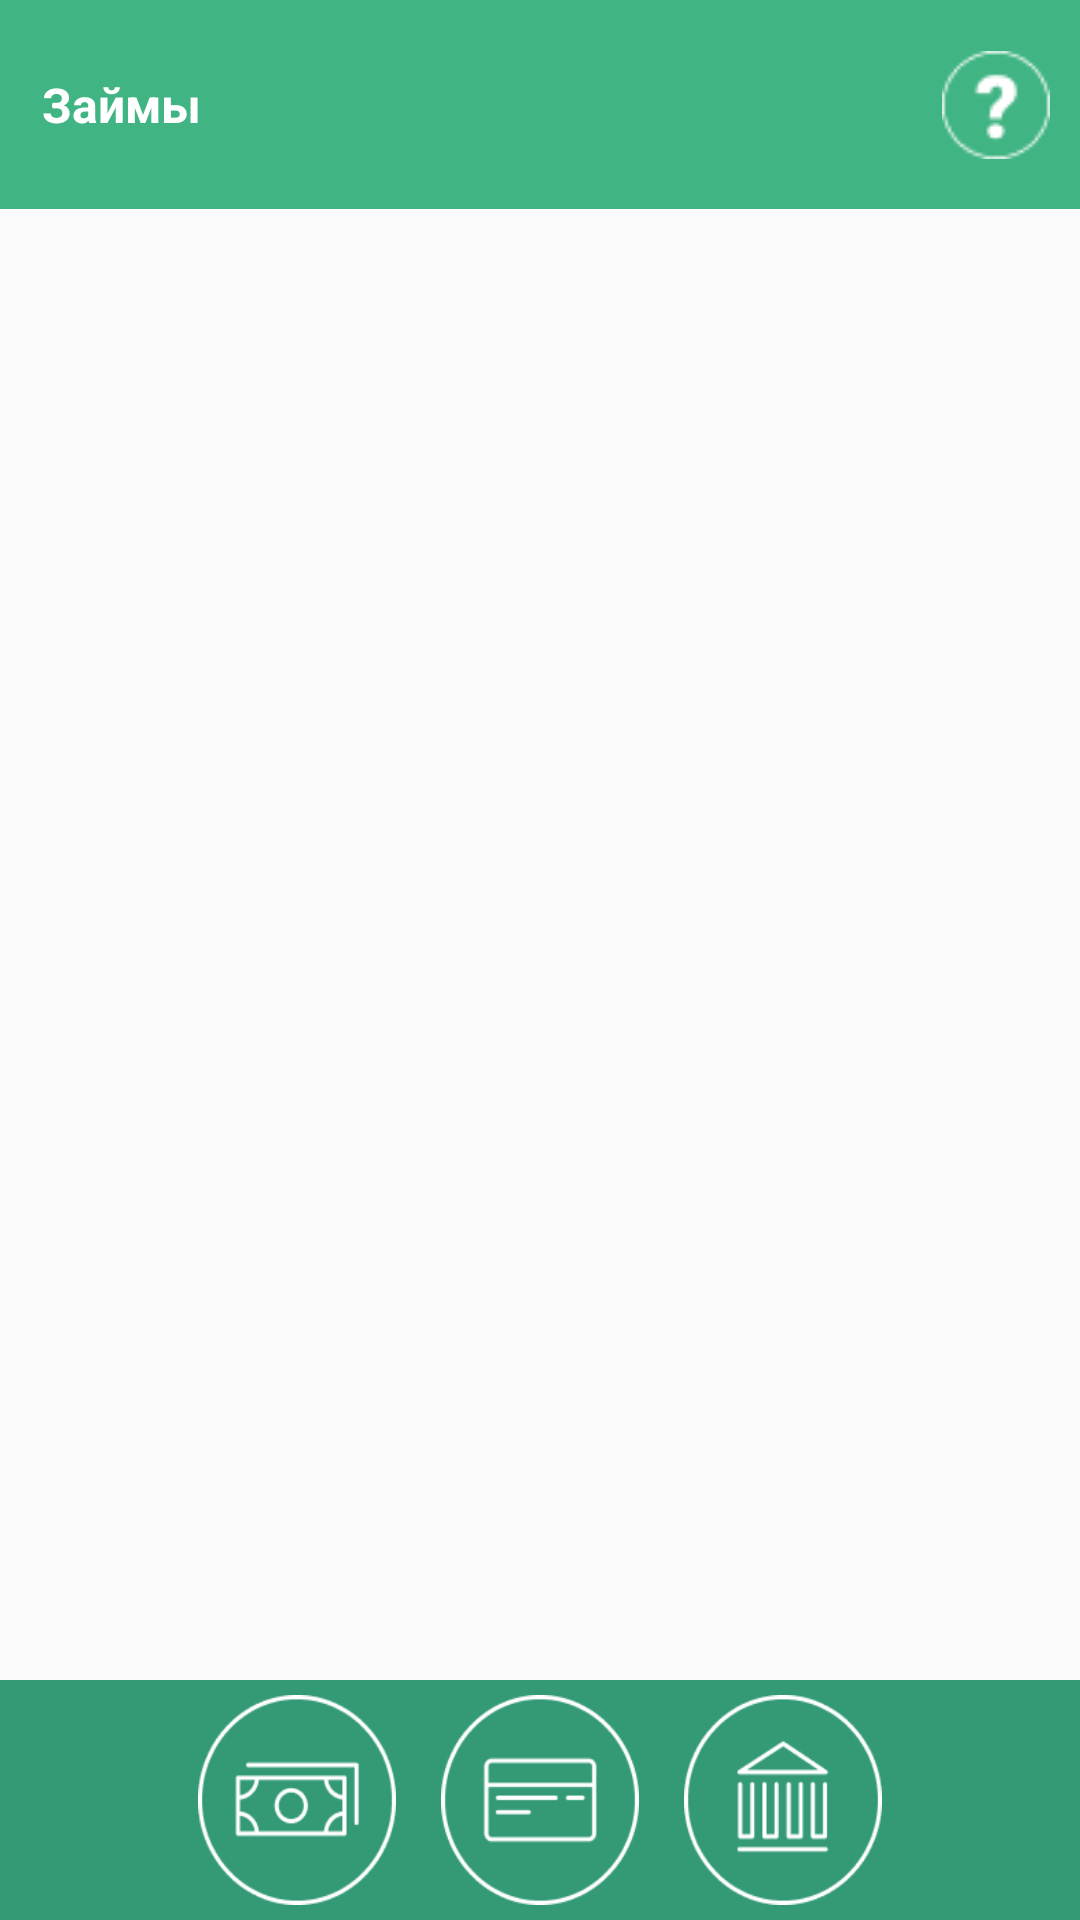

Point at icon controls on the screen. Image size 1080×1920, points as point (x, y).
inf: point (996, 105)
zaim: point (297, 1800)
